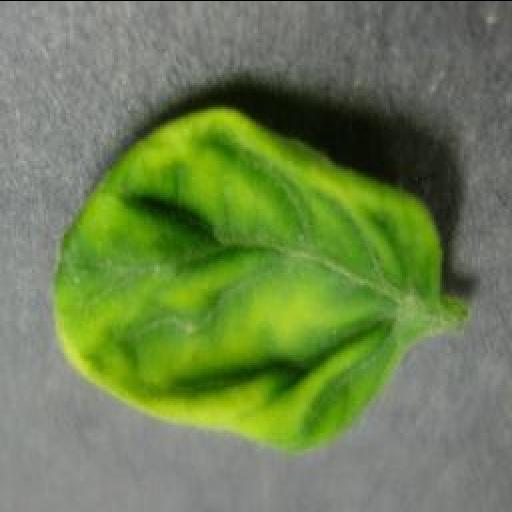disease_tomato: (52, 107, 444, 453)
